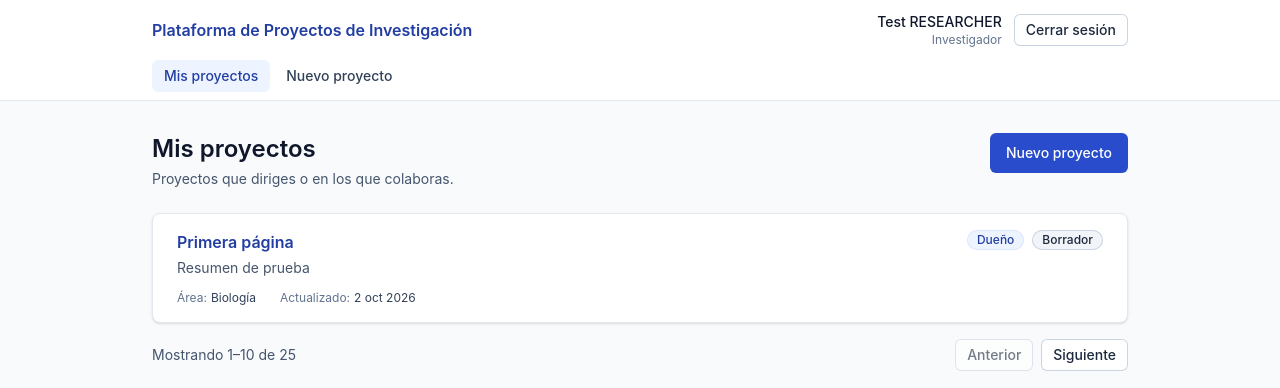
Test: role dashboards › paginates with limit/offset
The width and height of the screenshot is (1280, 388).
Expected: the link "Primera página" is shown, x1=177 y1=232 x2=294 y2=252
Expected: the text "Mostrando 1–10 de 25" is shown, x1=152 y1=345 x2=296 y2=365
Click the button "Siguiente": x=1085, y=355 x1=1041 y1=339 x2=1128 y2=371
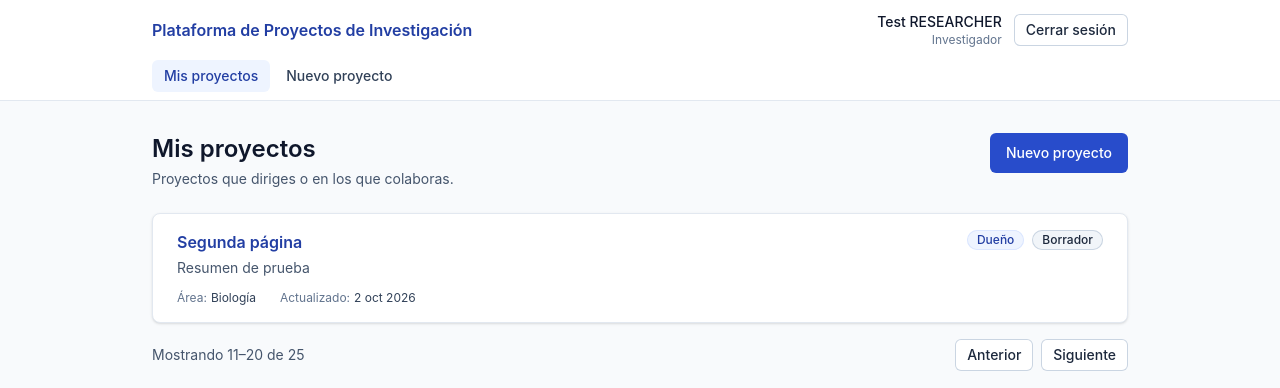
Result: the link "Segunda página" is shown at x1=177 y1=232 x2=302 y2=252
Result: the text "Mostrando 11–20 de 25" is shown at x1=152 y1=345 x2=304 y2=365
